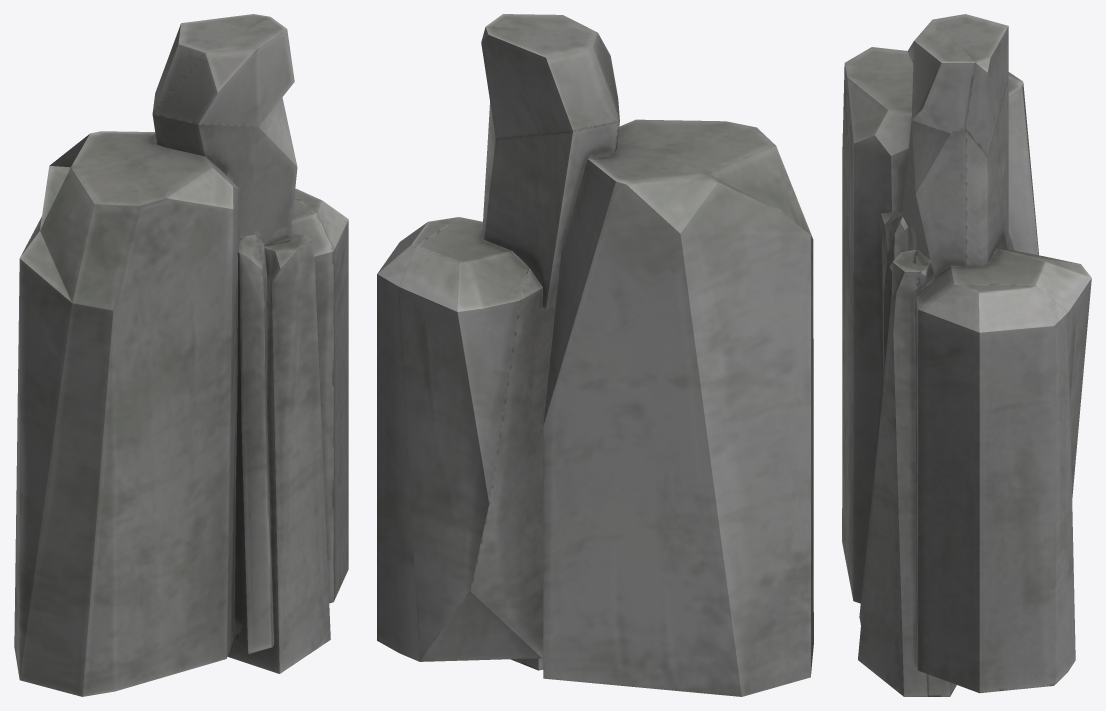
File: 4_Grande.fbx
3 renders of one model, left to right at view 1: azimuth 30°, elevation 25°; view 2: azimuth 150°, elevation 25°; view 3: azimuth 270°, elevation 25°, orthographic. The views are drawn at different scales.
Visible parts, largest first — view 1: 4_R_Grande_Low; view 2: 4_R_Grande_Low; view 3: 4_R_Grande_Low.
Part boxes in pixels (x1,y1,x2,y2): 4_R_Grande_Low: [14, 14, 348, 696]; 4_R_Grande_Low: [377, 14, 813, 696]; 4_R_Grande_Low: [842, 14, 1091, 696].
Bounding box in the file's own units: 1170 × 1872 × 682.
